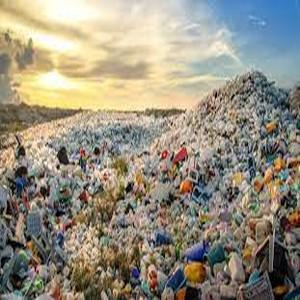Plastic: (230, 250, 246, 282)
